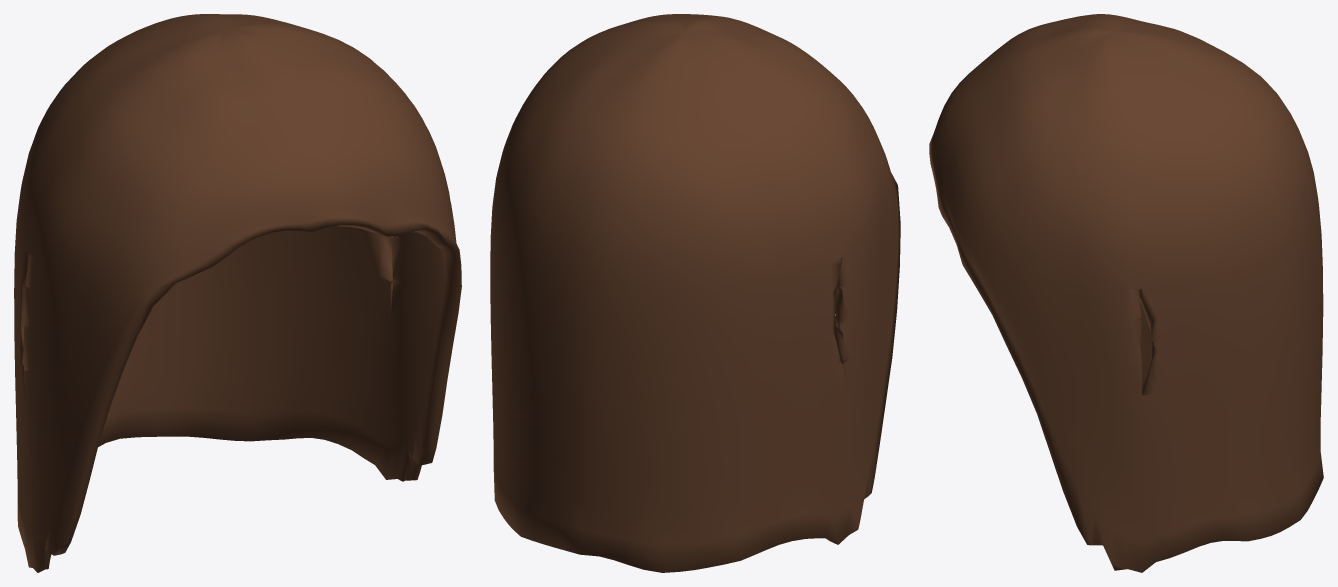
The model's file is 3HT-feminino.glb.
3 views of the same model, side by side, from view 1: azimuth 30°, elevation 25°; view 2: azimuth 150°, elevation 25°; view 3: azimuth 270°, elevation 25° (orthographic). The views are drawn at different scales.
Parts seen in each view (by area): view 1: sculpted-scalp; view 2: sculpted-scalp; view 3: sculpted-scalp.
Part boxes in pixels (<box>): sculpted-scalp: <box>14,14,461,572</box>; sculpted-scalp: <box>490,14,900,572</box>; sculpted-scalp: <box>929,14,1323,572</box>.
Bounding box in the file's own units: 0.0453 × 0.0571 × 0.0441.
